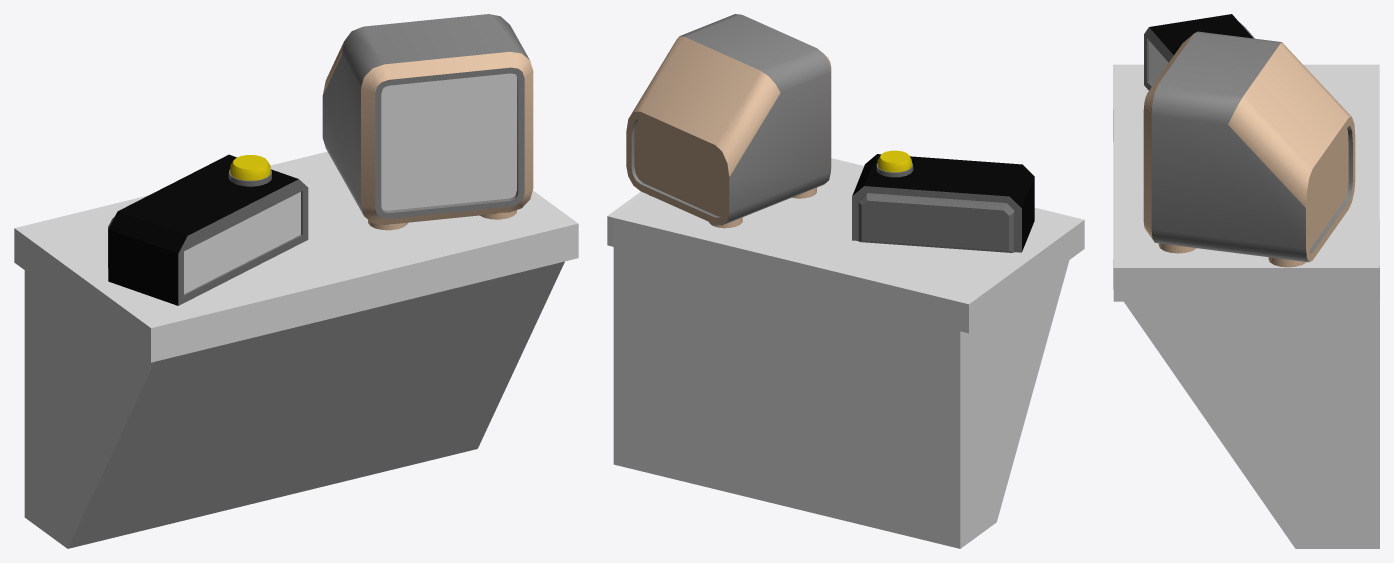
The model's file is Orbit Table.fbx.
3 renders of one model, left to right at view 1: azimuth 30°, elevation 25°; view 2: azimuth 150°, elevation 25°; view 3: azimuth 270°, elevation 25°, orthographic. The views are drawn at different scales.
Visible parts, largest first — view 1: Main Table.001, Orbit Screen Decorative, Obrit screen Decrative Screen, Orbit Realignment Display, Orbit Screen, Button; view 2: Main Table.001, Orbit Screen Decorative, Orbit Realignment Display, Button; view 3: Main Table.001, Orbit Screen Decorative, Orbit Realignment Display, Orbit Screen.
Boxes of the visible parts, x1,y1,x2,y2 form: Main Table.001: (14,151,578,548); Orbit Screen Decorative: (322,14,533,230); Obrit screen Decrative Screen: (381,73,516,210); Orbit Realignment Display: (108,154,308,305); Orbit Screen: (184,192,300,293); Button: (230,155,270,180); Main Table.001: (607,158,1084,548); Orbit Screen Decorative: (626,14,831,228); Orbit Realignment Display: (852,154,1034,252); Button: (877,150,911,172); Main Table.001: (1113,64,1379,548); Orbit Screen Decorative: (1143,31,1355,267); Orbit Realignment Display: (1144,14,1254,90); Orbit Screen: (1149,41,1168,84).
Size of the model in its own units: 185 by 183 by 98.93.
